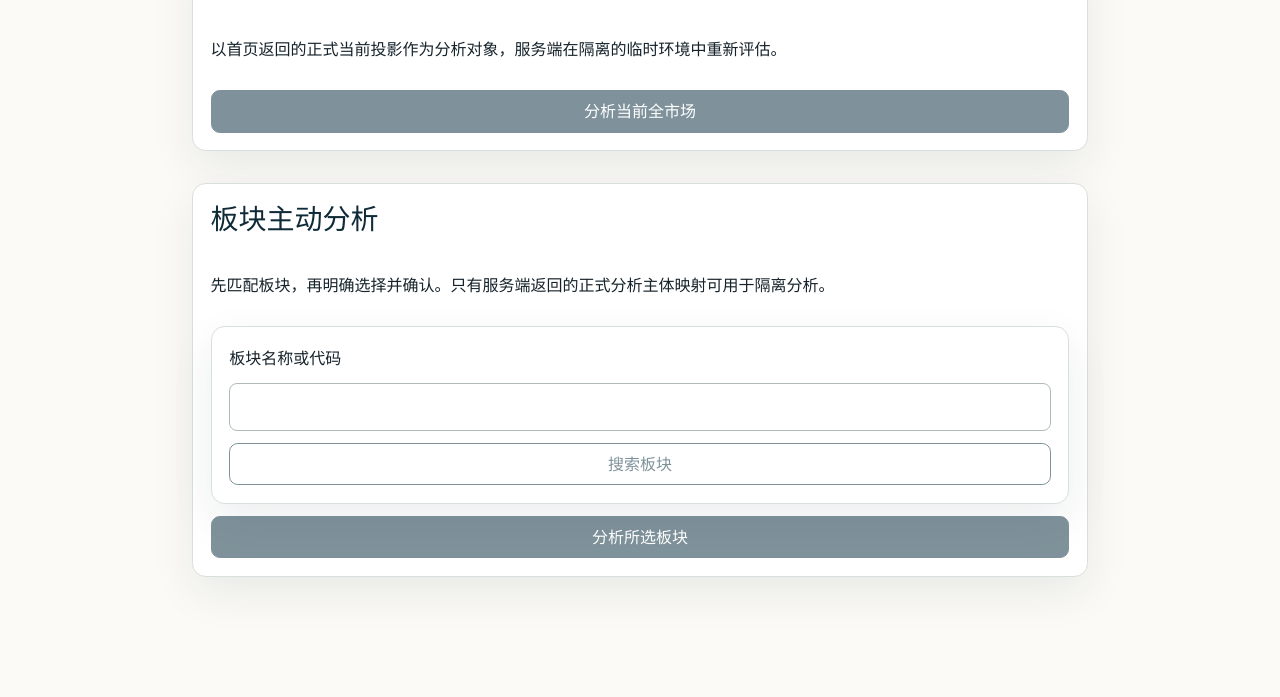
isolated active analysis › requires explicit selection and confirmation for an exact match, then queries only its canonical subject
(page scrolled)
In the field labelled "板块名称或代码": x=640, y=407 [229, 384, 1051, 431], type "半导体"
(page scrolled)
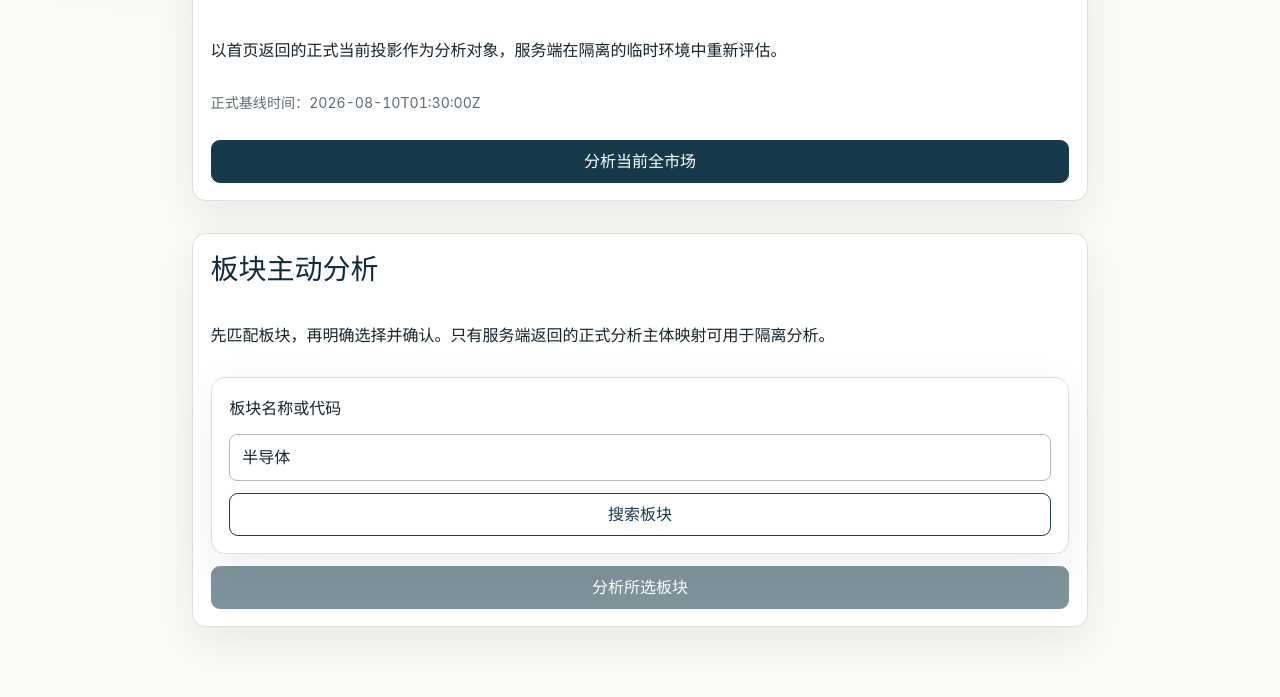
Click the button "搜索板块": x=640, y=514 [229, 493, 1051, 536]
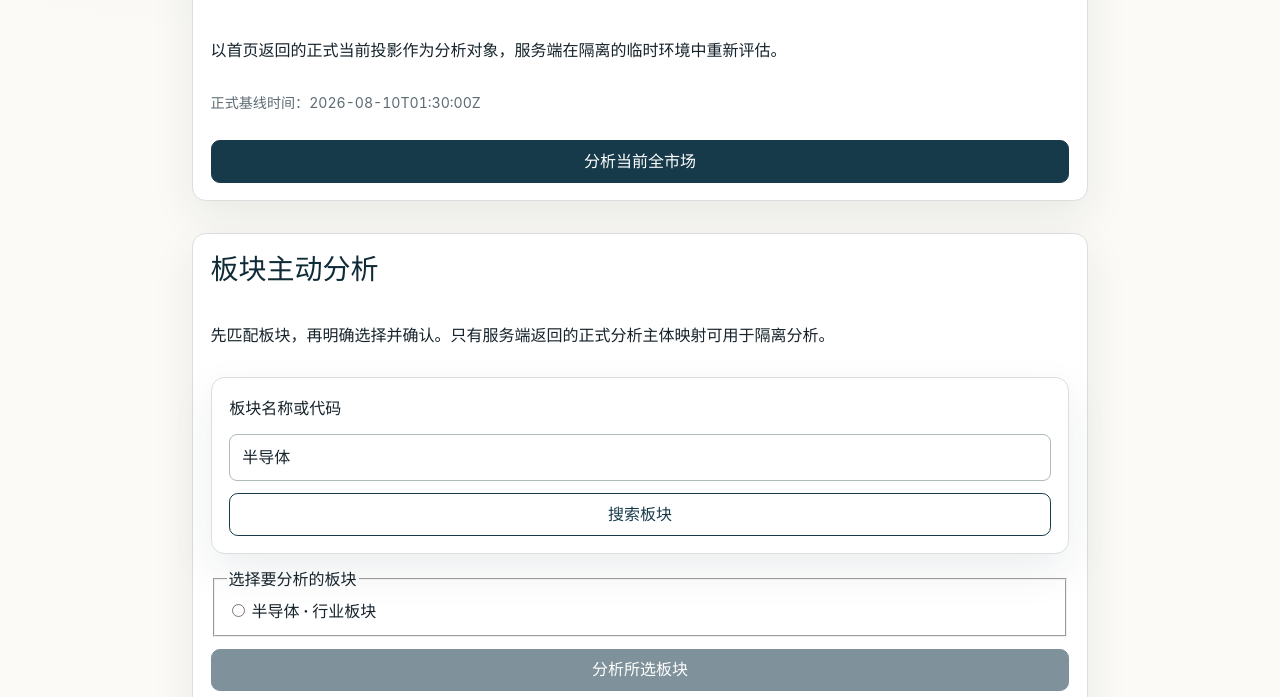
Expected: the button "分析所选板块" is disabled, [211, 648, 1069, 691]
Click the radio button labelled "半导体 · 行业板块": x=238, y=611 [232, 604, 245, 617]
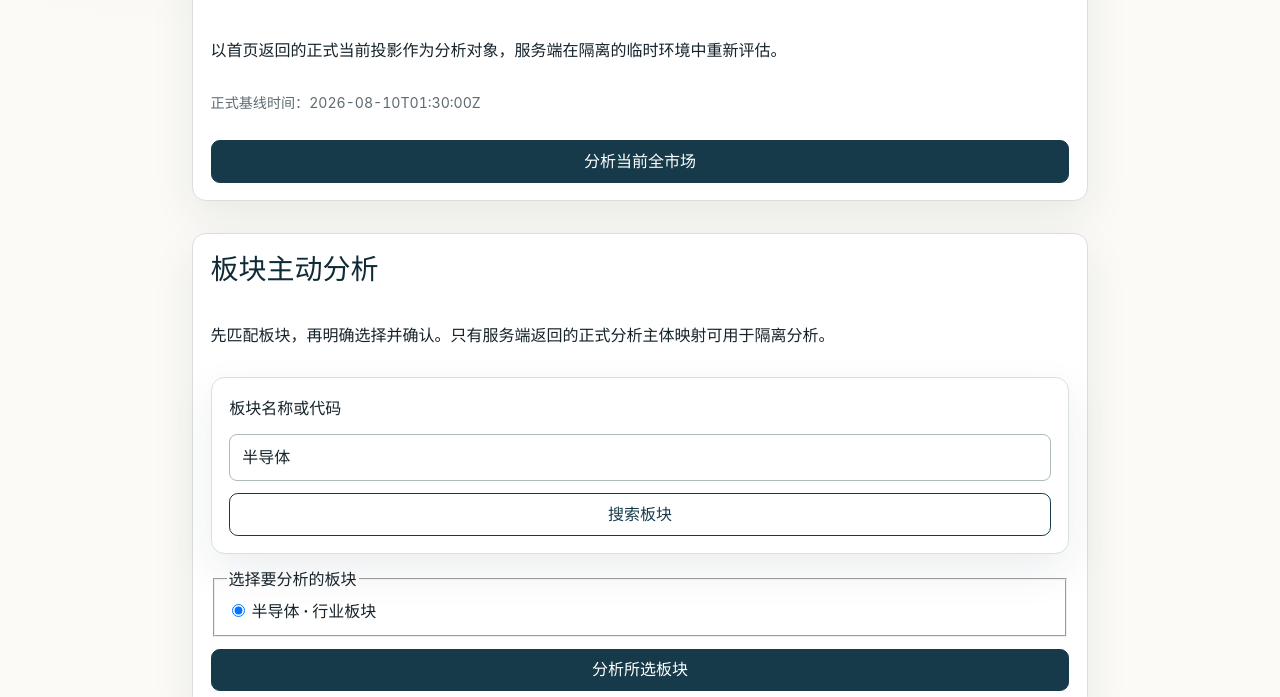
Expected: the button "分析所选板块" is enabled
Click the button "分析所选板块": x=640, y=670 [211, 648, 1069, 691]
(page scrolled)
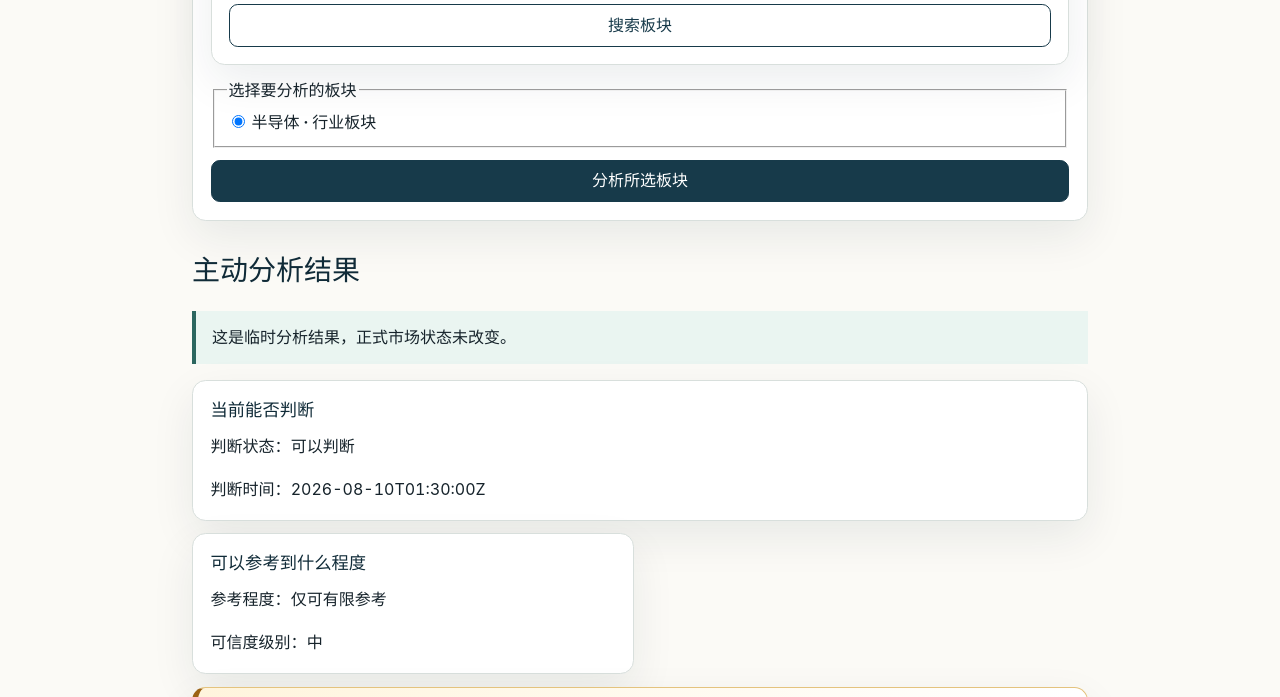
Expected: the text "这是临时分析结果，正式市场状态未改变。" is shown, [192, 311, 1088, 364]
